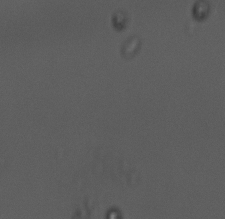Dead Cell: (191, 1, 212, 19)
